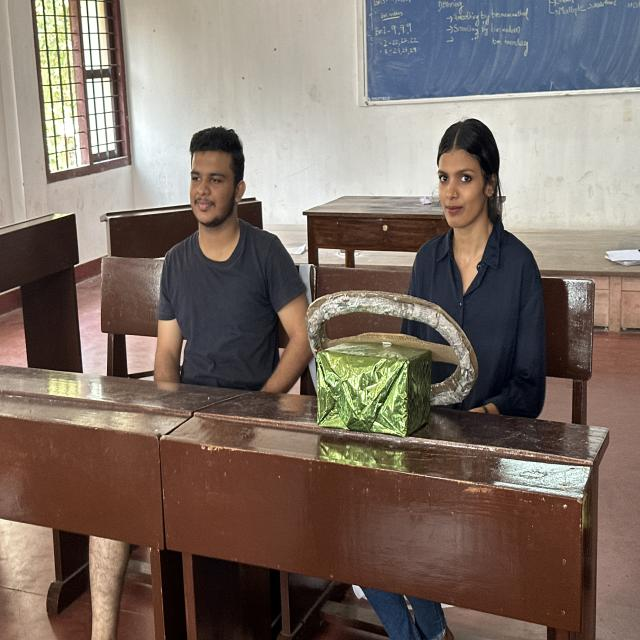Helmet: (145, 221, 320, 404), (392, 235, 556, 417)
